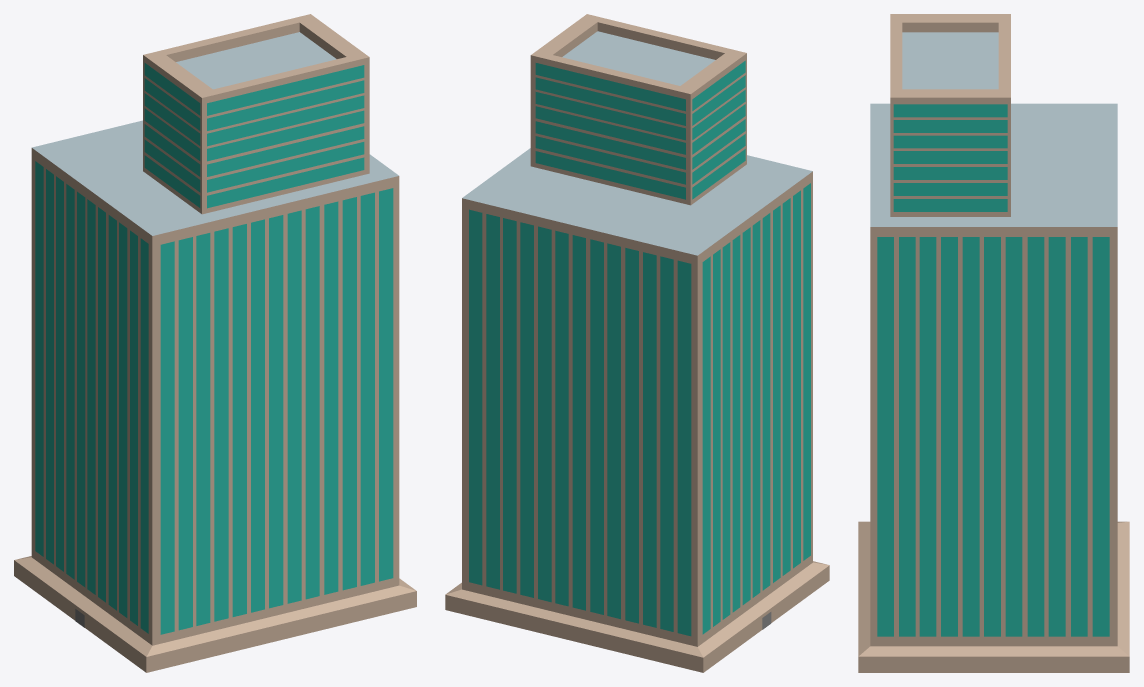
The model's file is Skyscraper4.gltf.
3 renders of one model, left to right at view 1: azimuth 30°, elevation 25°; view 2: azimuth 150°, elevation 25°; view 3: azimuth 270°, elevation 25°, orthographic. The views are drawn at different scales.
Visible parts, largest first — view 1: Skyscraper4; view 2: Skyscraper4; view 3: Skyscraper4.
Boxes of the visible parts, left/top/right/bottom form: Skyscraper4: left=14, top=14, right=416, bottom=672; Skyscraper4: left=445, top=14, right=829, bottom=672; Skyscraper4: left=858, top=14, right=1129, bottom=672.
Size of the model in its own units: 4.74 by 9.14 by 4.02.
